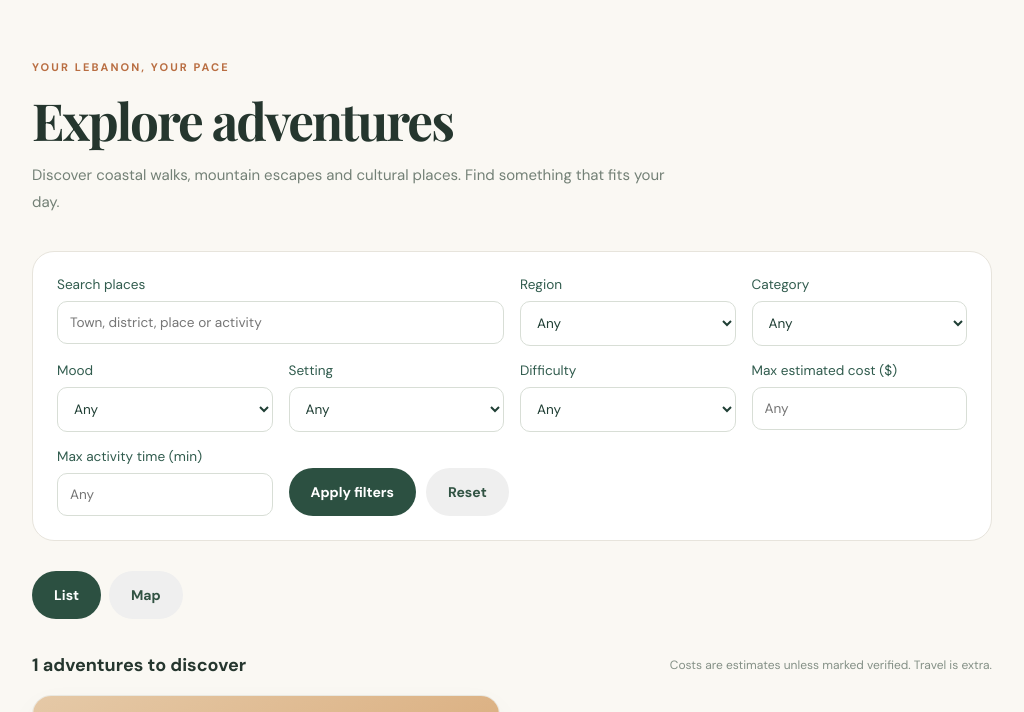
Test: switches to map and applies filters without showing list pagination
Expected: the heading "1 adventures to discover" is shown, [32,653,246,677]
Click the button "Map" at (146, 595), box [109,571,183,619]
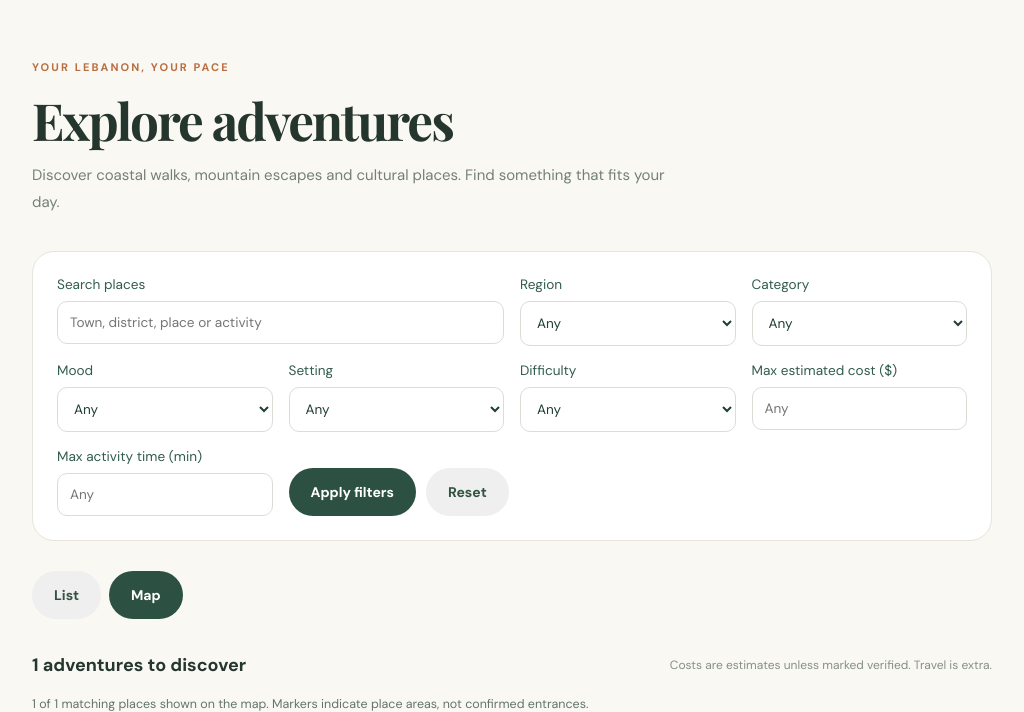
Type "mountain" into the field labelled "Search places" at (280, 322), box [57,301,504,344]
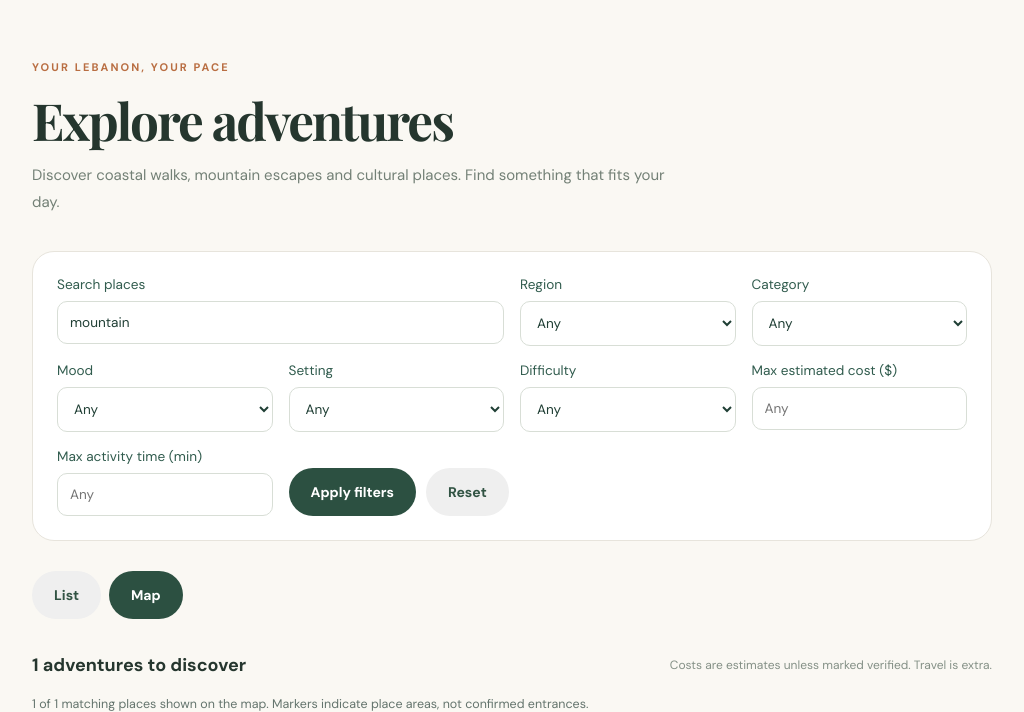
Click the button "Apply filters" at (352, 492), box [288,468,416,516]
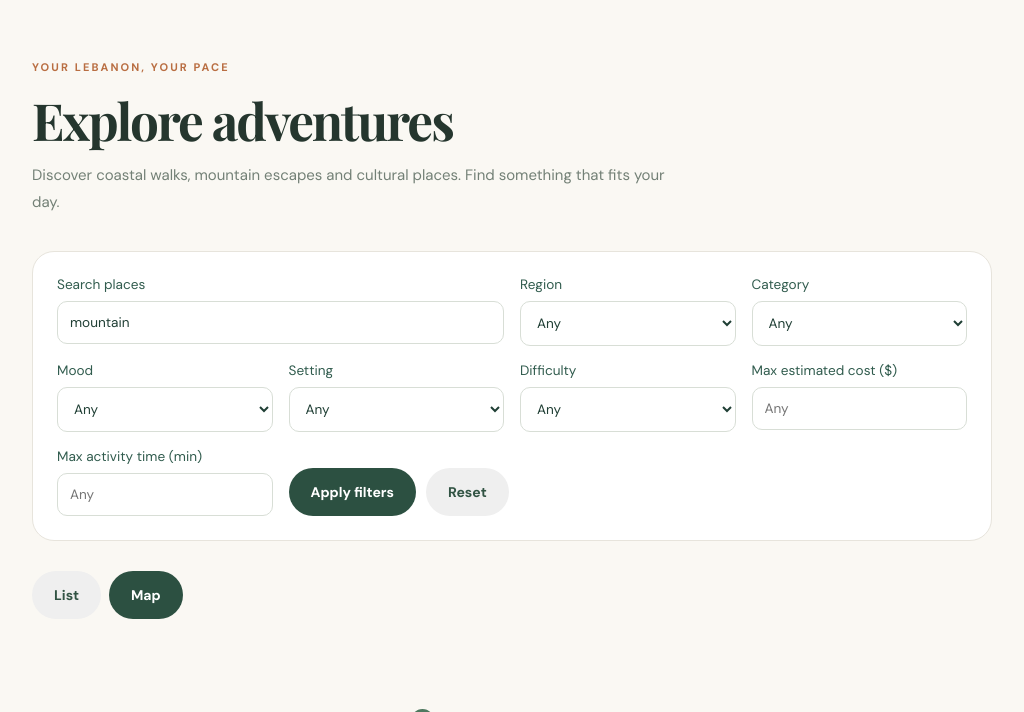
Click the button "List" at (66, 595), box [32,571,101,619]
(page scrolled)
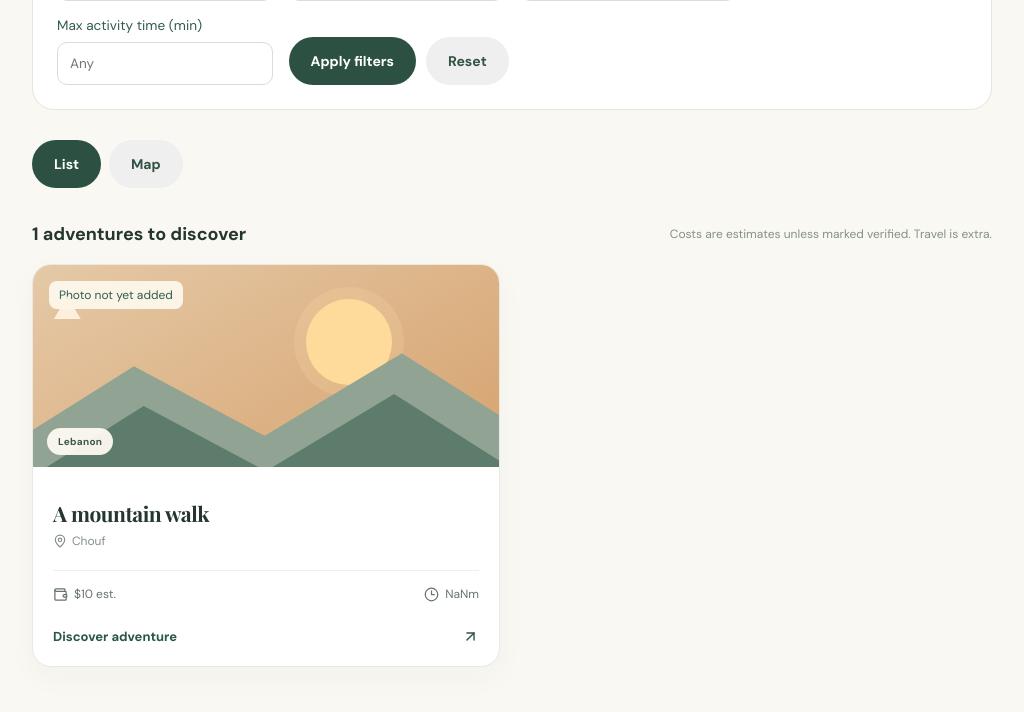
Result: the heading "A mountain walk" is shown at [53,499,209,527]
